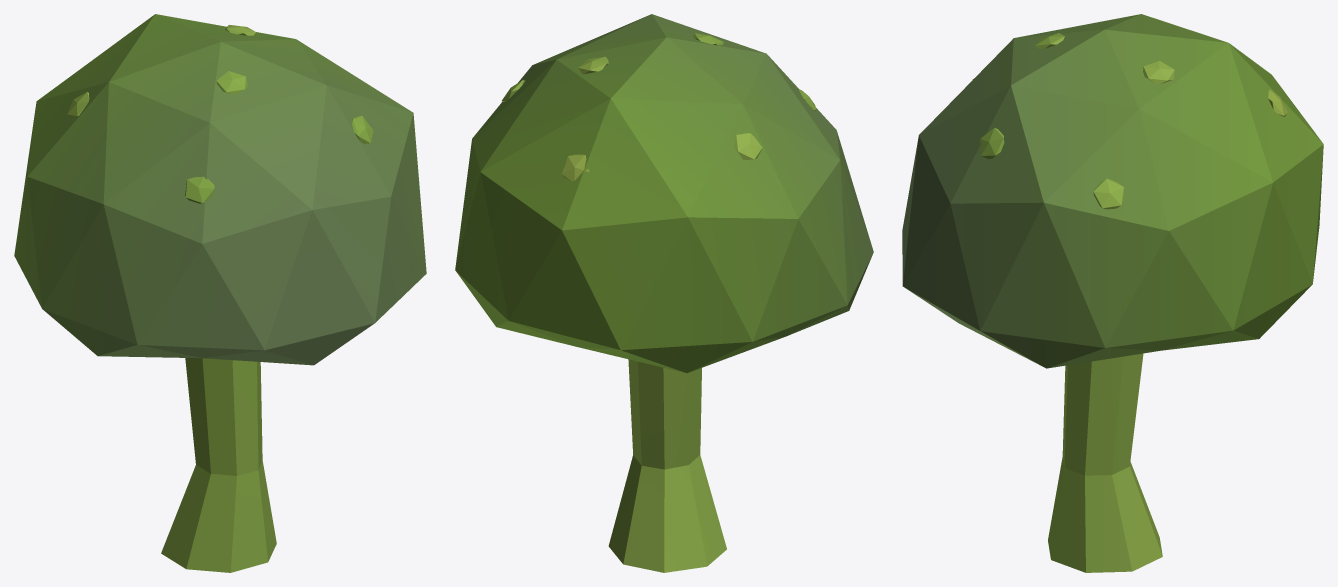
Rendered from Mushroom_07.fbx.
The picture shows the model from 3 angles, left to right: view 1: azimuth 30°, elevation 25°; view 2: azimuth 150°, elevation 25°; view 3: azimuth 270°, elevation 25°; orthographic projection. The views are drawn at different scales.
Visible parts, largest first — view 1: Mushroom_07; view 2: Mushroom_07; view 3: Mushroom_07.
Part boxes in pixels (x1,y1,x2,y2): Mushroom_07: [14, 14, 426, 572]; Mushroom_07: [455, 14, 873, 572]; Mushroom_07: [902, 14, 1323, 572].
Bounding box in the file's own units: 0.8764 × 1.18 × 0.8702.
